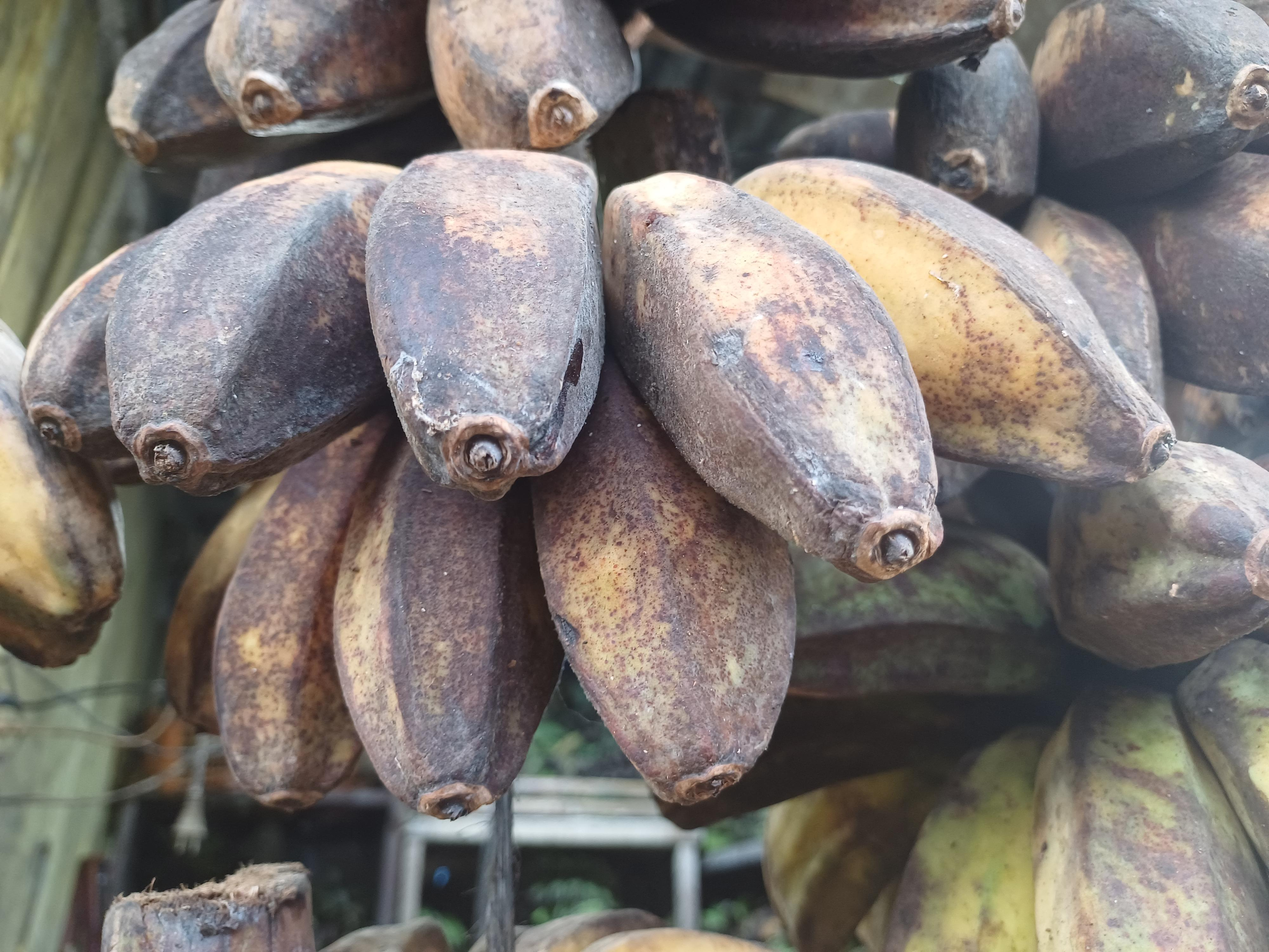overripe: (23, 150, 1171, 818), (775, 0, 1269, 462), (108, 0, 1024, 167)
underripe: (671, 442, 1269, 952)
